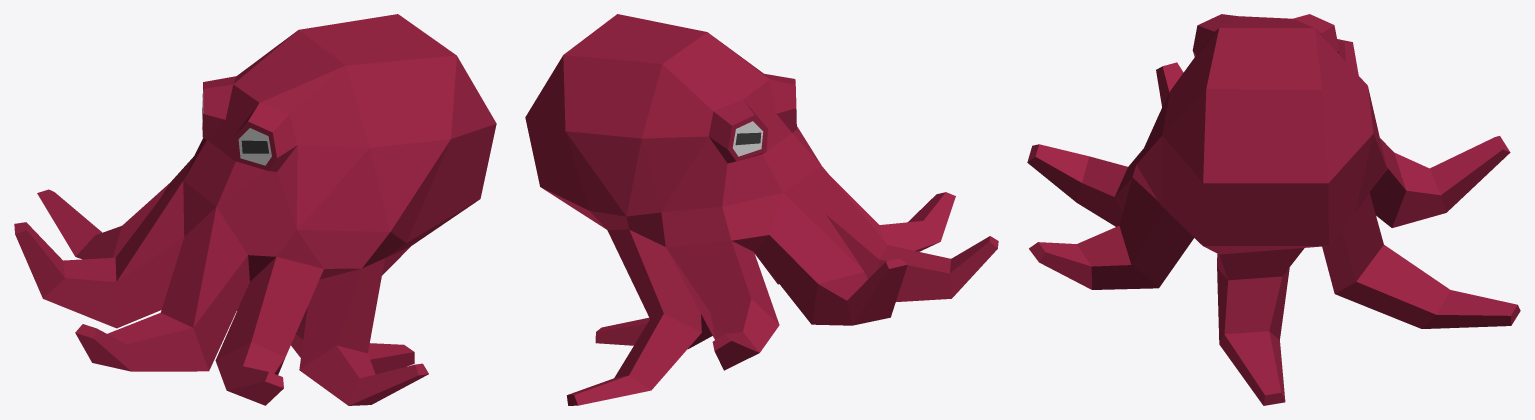
The model's file is frame_04.fbx.
3 renders of one model, left to right at view 1: azimuth 30°, elevation 25°; view 2: azimuth 150°, elevation 25°; view 3: azimuth 270°, elevation 25°, orthographic. The views are drawn at different scales.
Visible parts, largest first — view 1: Octopus.002; view 2: Octopus.002; view 3: Octopus.002.
Boxes of the visible parts, box(x1,y1,x2,y2) form: Octopus.002: box(14, 14, 496, 405); Octopus.002: box(525, 14, 998, 405); Octopus.002: box(1027, 14, 1520, 405).
Bounding box in the file's own units: 6.36 × 4.7 × 6.29.
